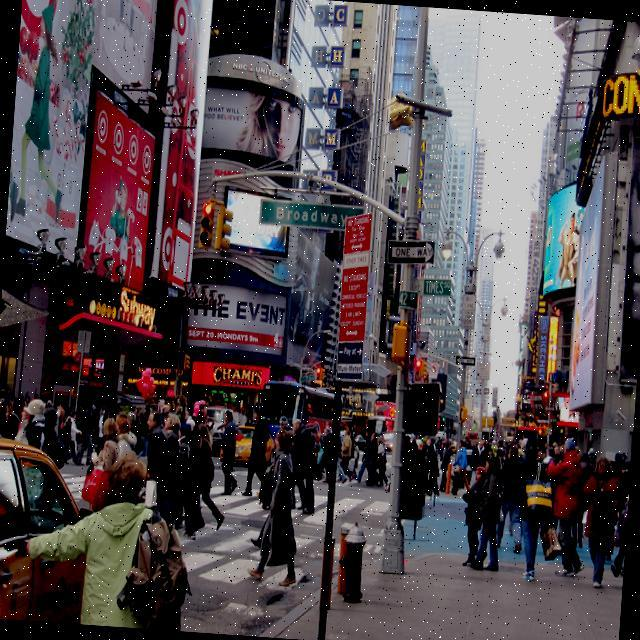fire_hydrant: (336, 516, 368, 602)
